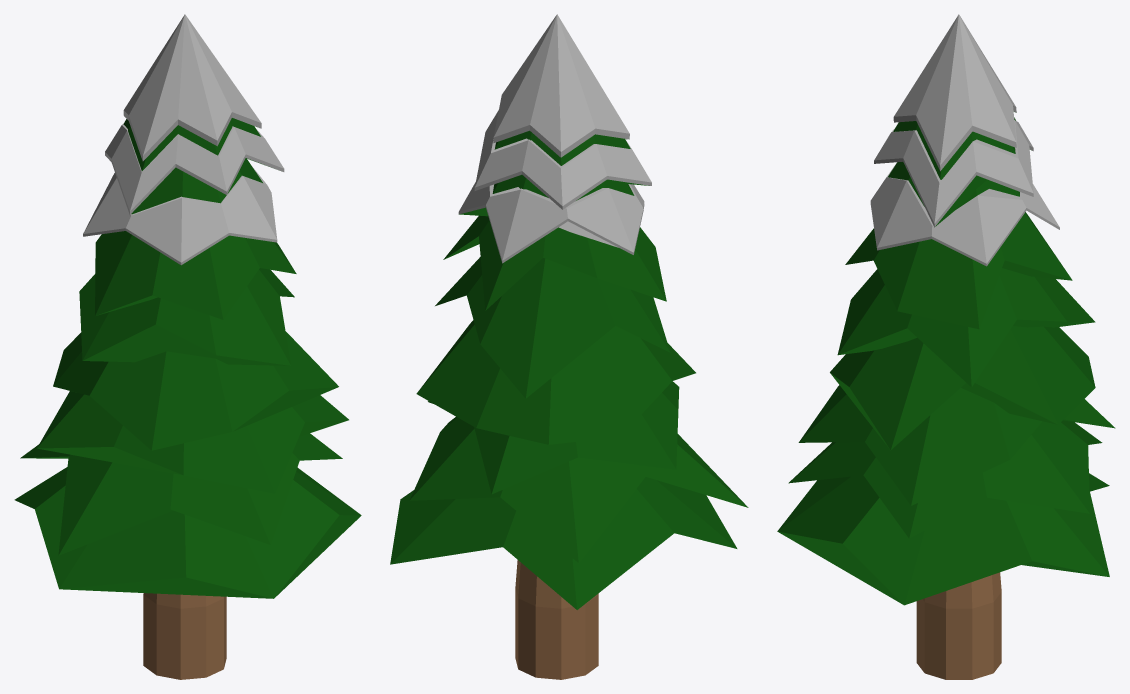
The model's file is Fir_4 Winter.fbx.
The picture shows the model from 3 angles, left to right: view 1: azimuth 30°, elevation 25°; view 2: azimuth 150°, elevation 25°; view 3: azimuth 270°, elevation 25°; orthographic projection.
Parts seen in each view (by area): view 1: Fir4Winter_mesh; view 2: Fir4Winter_mesh; view 3: Fir4Winter_mesh.
Boxes of the visible parts, x1=… form: Fir4Winter_mesh: x1=14, y1=14, x2=361, y2=679; Fir4Winter_mesh: x1=390, y1=14, x2=748, y2=679; Fir4Winter_mesh: x1=777, y1=14, x2=1115, y2=679.
Size of the model in its own units: 474 by 952 by 450.
